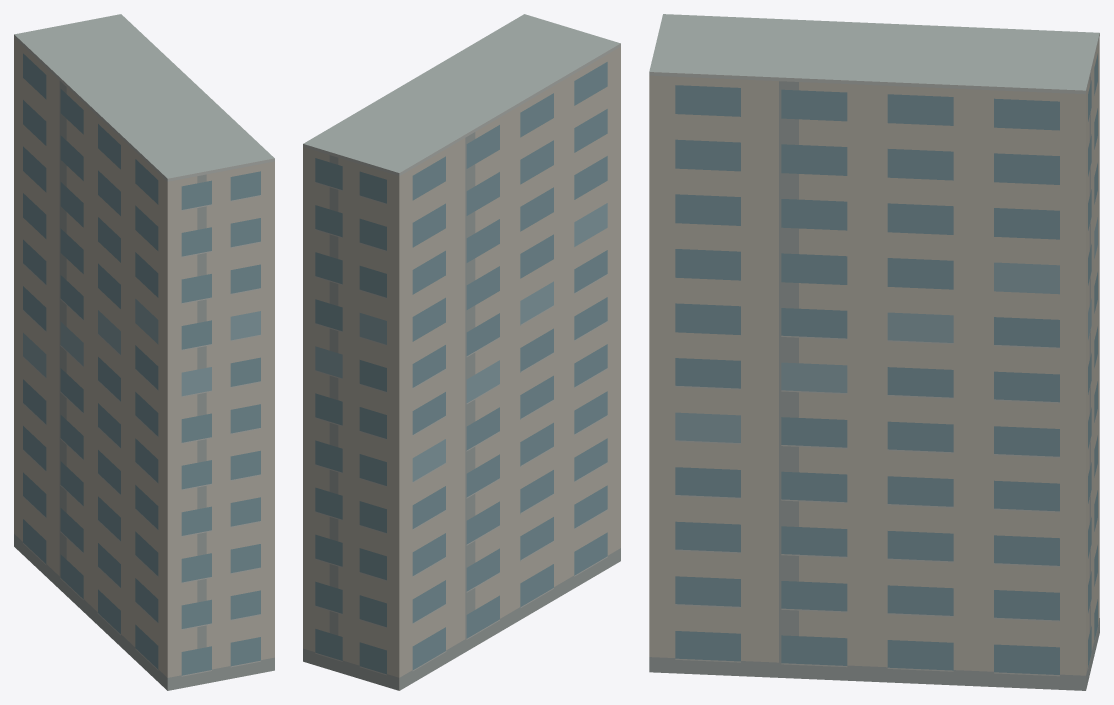
Rendered from residential-74378f86-7694-4bbb-9de2-d2596238e350.glb.
3 renders of one model, left to right at view 1: azimuth 30°, elevation 25°; view 2: azimuth 150°, elevation 25°; view 3: azimuth 270°, elevation 25°, orthographic. The views are drawn at different scales.
Visible parts, largest first — view 1: residential-74378f86-7694-4bbb-9de2-d2596238e350.tmp; view 2: residential-74378f86-7694-4bbb-9de2-d2596238e350.tmp; view 3: residential-74378f86-7694-4bbb-9de2-d2596238e350.tmp.
Part boxes in pixels (left/top/right/bottom): residential-74378f86-7694-4bbb-9de2-d2596238e350.tmp: left=14, top=14, right=274, bottom=690; residential-74378f86-7694-4bbb-9de2-d2596238e350.tmp: left=303, top=14, right=620, bottom=690; residential-74378f86-7694-4bbb-9de2-d2596238e350.tmp: left=649, top=14, right=1099, bottom=690.
Size of the model in its own units: 10.96 by 40 by 27.22.
